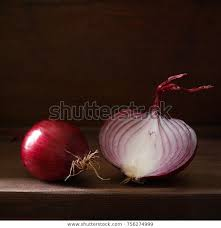onion: (98, 106, 198, 185), (20, 119, 93, 183)
